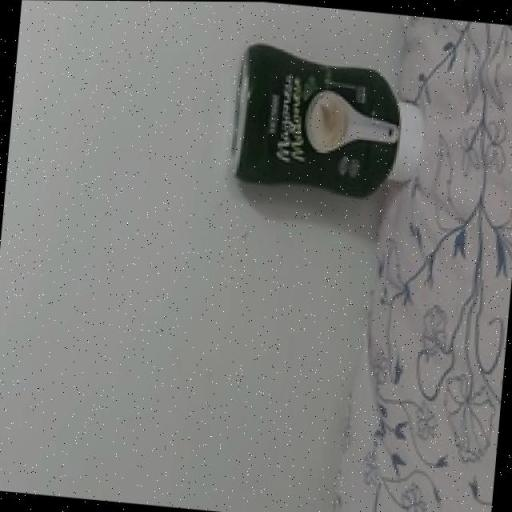plastic: (232, 44, 425, 201)
